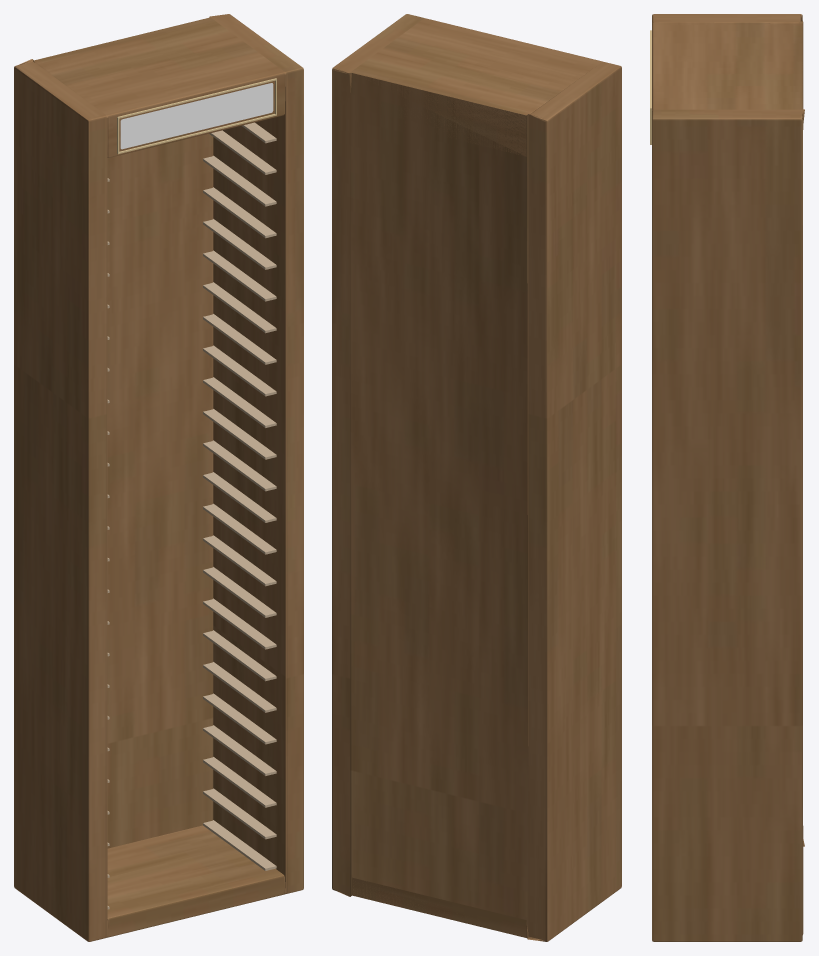
File: tape_rack.glb
3 views of the same model, side by side, from view 1: azimuth 30°, elevation 25°; view 2: azimuth 150°, elevation 25°; view 3: azimuth 270°, elevation 25° (orthographic).
Visible parts, largest first — view 1: rack_wood, rack_ledges, rack_label, rack_label_frame; view 2: rack_wood; view 3: rack_wood.
Part boxes in pixels (box(x1,y1,x2,y2)): rack_wood: box(14, 14, 303, 941); rack_ledges: box(107, 122, 276, 909); rack_label: box(120, 83, 273, 149); rack_label_frame: box(117, 78, 276, 154); rack_wood: box(332, 14, 621, 941); rack_wood: box(652, 14, 804, 941).
Size of the model in its own units: 0.136 by 0.4964 by 0.0842.
4 materials, 2 textured.
